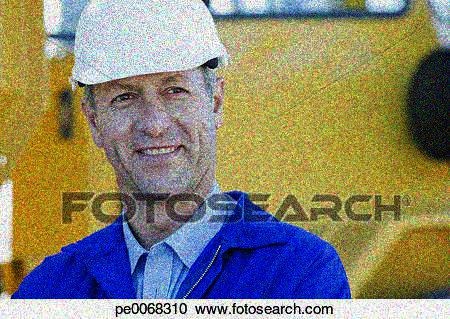helmet: (69, 1, 233, 195)
